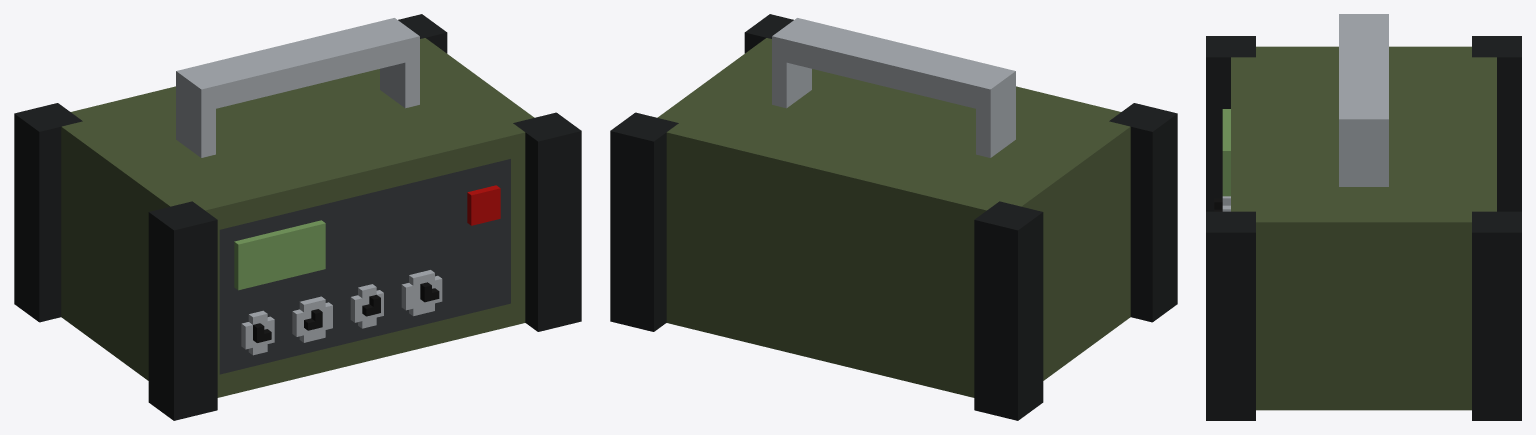
The model's file is ups.glb.
The picture shows the model from 3 angles, left to right: view 1: azimuth 30°, elevation 25°; view 2: azimuth 150°, elevation 25°; view 3: azimuth 270°, elevation 25°; orthographic projection.
Parts seen in each view (by area): view 1: ups:compound; view 2: ups:compound; view 3: ups:compound.
Part boxes in pixels (x1=…): ups:compound: x1=14, y1=14, x2=581, y2=420; ups:compound: x1=610, y1=14, x2=1177, y2=420; ups:compound: x1=1206, y1=14, x2=1521, y2=420.
Size of the model in its own units: 0.224 by 0.136 by 0.152.
